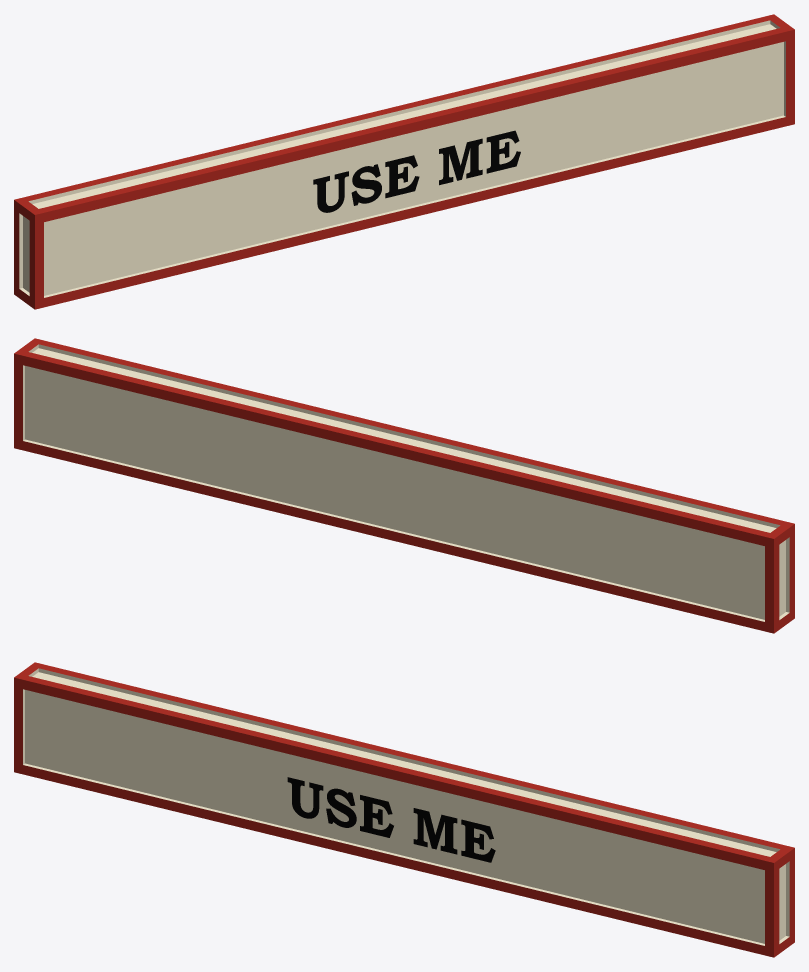
Rendered from useMe.glb.
3 views of the same model, one above another, from view 1: azimuth 30°, elevation 25°; view 2: azimuth 150°, elevation 25°; view 3: azimuth 330°, elevation 25° (orthographic).
Parts seen in each view (by area): view 1: ButtonBase, ButtonText; view 2: ButtonBase; view 3: ButtonBase, ButtonText.
Part boxes in pixels (<box>): ButtonBase: <box>14,14,794,309</box>; ButtonText: <box>313,130,520,212</box>; ButtonBase: <box>14,338,794,633</box>; ButtonBase: <box>14,662,794,957</box>; ButtonText: <box>287,777,495,862</box>.
Bounding box in the file's own units: 10.5 × 1.25 × 0.5538.
